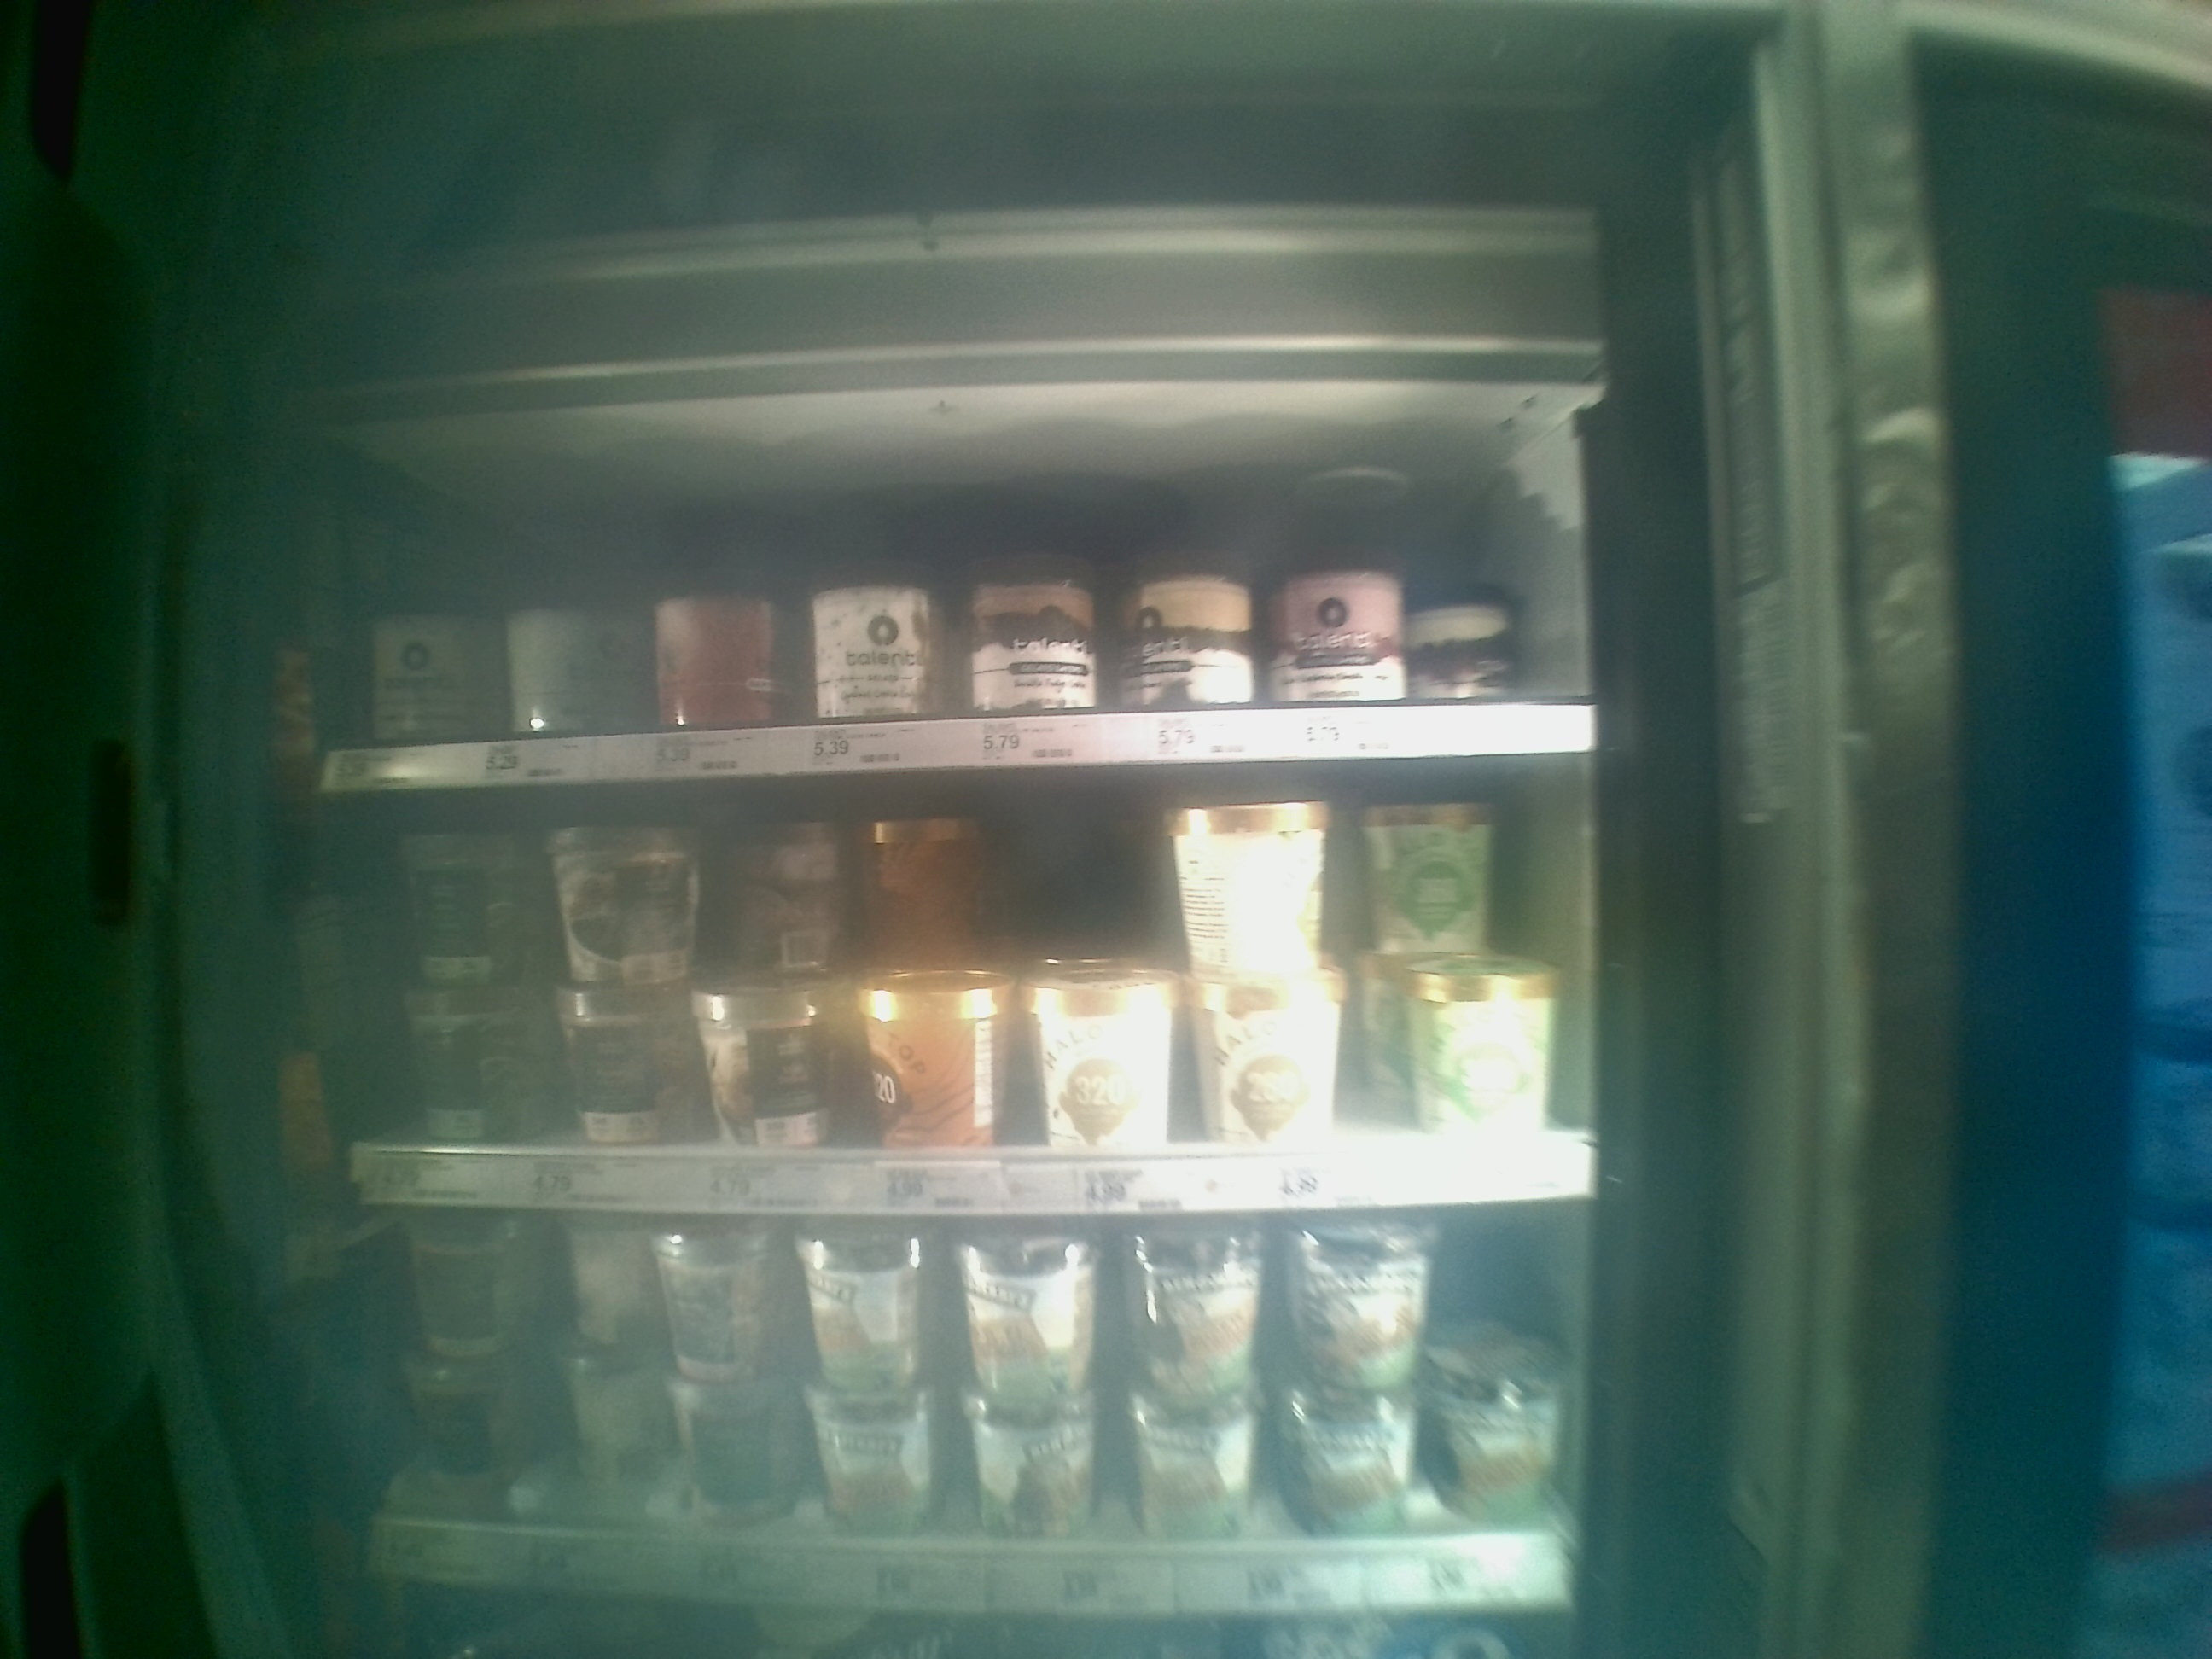ice-cream-shelf: (343, 758, 1604, 1208), (340, 1211, 1588, 1605), (341, 462, 1590, 756)
